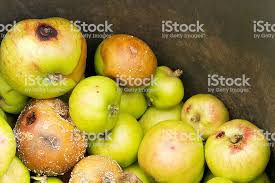apple: (136, 124, 202, 180), (70, 77, 123, 131)
damaged_apple: (5, 23, 89, 97), (12, 96, 89, 170), (205, 118, 269, 176), (95, 34, 160, 86), (69, 151, 137, 182), (182, 92, 227, 136)
